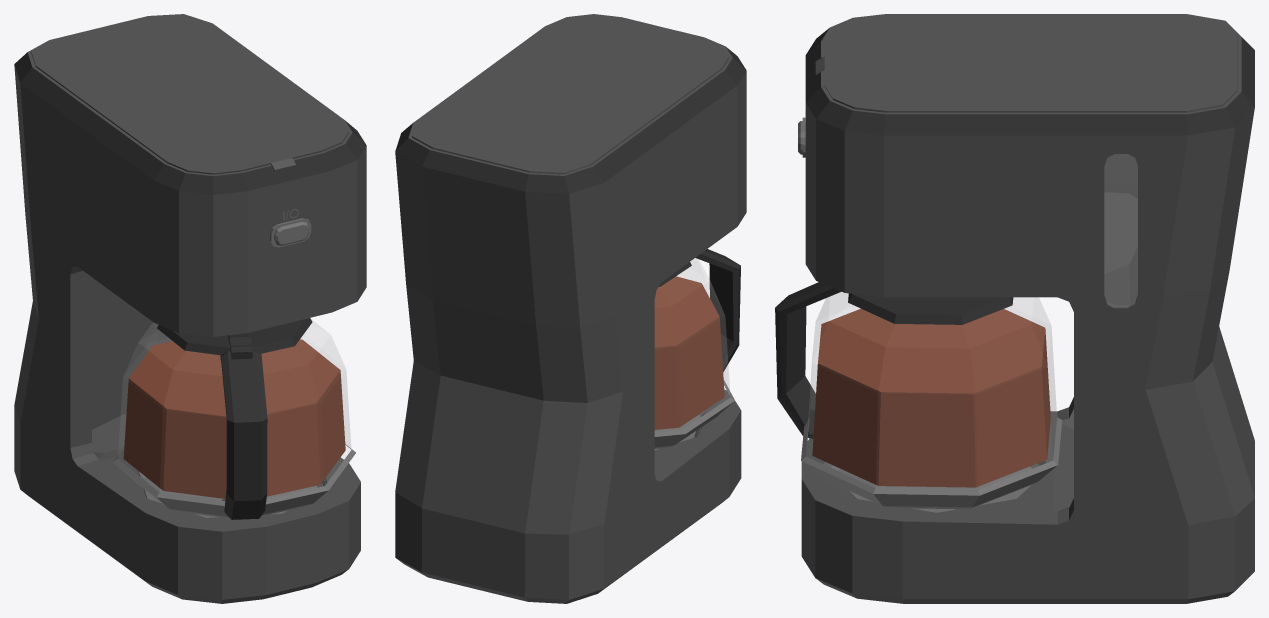
Rendered from Coffee Machine.glb.
3 views of the same model, side by side, from view 1: azimuth 30°, elevation 25°; view 2: azimuth 150°, elevation 25°; view 3: azimuth 270°, elevation 25° (orthographic). The views are drawn at different scales.
Visible parts, largest first — view 1: Machine_Cube.001, Jug_Cylinder.003; view 2: Machine_Cube.001, Jug_Cylinder.003; view 3: Machine_Cube.001, Jug_Cylinder.003, Cube.
Boxes of the visible parts, left/top/right/bottom form: Machine_Cube.001: left=14, top=14, right=366, bottom=603; Jug_Cylinder.003: left=113, top=318, right=355, bottom=519; Machine_Cube.001: left=395, top=14, right=746, bottom=603; Jug_Cylinder.003: left=654, top=249, right=740, bottom=448; Machine_Cube.001: left=798, top=14, right=1254, bottom=603; Jug_Cylinder.003: left=775, top=282, right=1062, bottom=509; Cube: left=1104, top=154, right=1137, bottom=306.
Size of the model in its own units: 0.9108 by 1.83 by 1.63.
